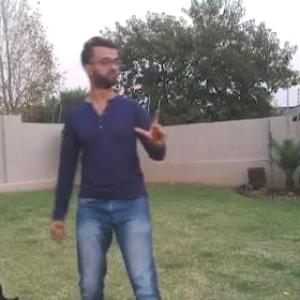land_hand: (130, 100, 170, 153)
